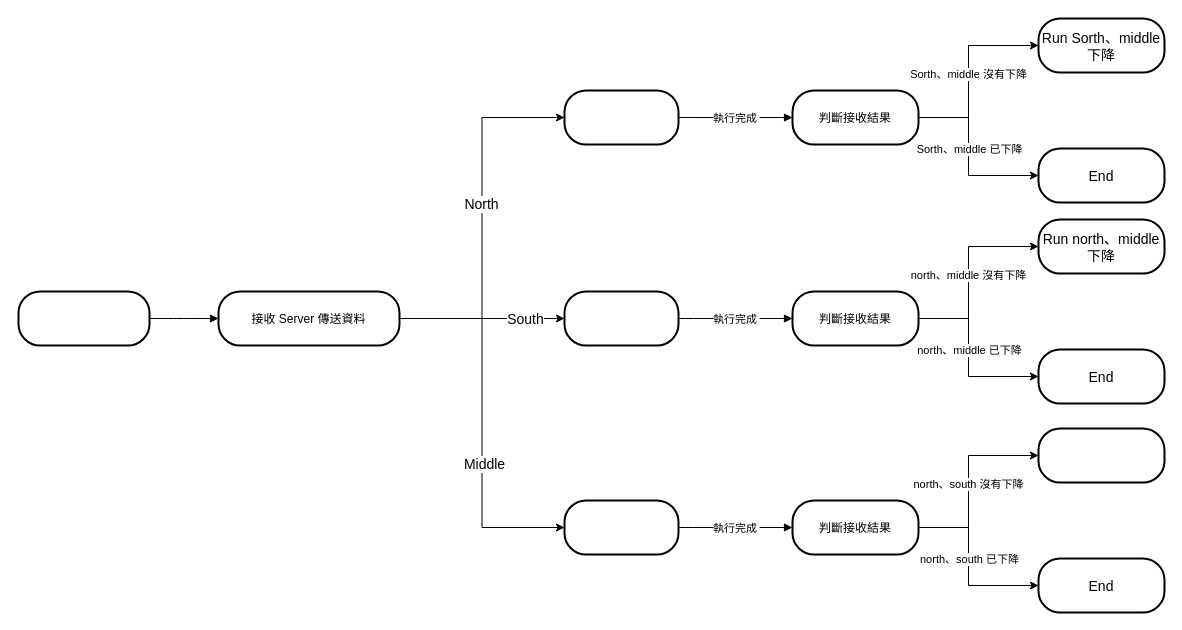
This 1182x630 diagram has some shape labels left out. Here are the shapes that lost their labels. From the top down, the box of each, then its label:
(563, 89, 679, 145): Run South motor 升起
(17, 290, 150, 346): Start
(563, 290, 679, 346): Run Nouth motor 升起
(1037, 427, 1165, 483): Run north、south 下降
(563, 499, 679, 555): Run middle motor 升起
